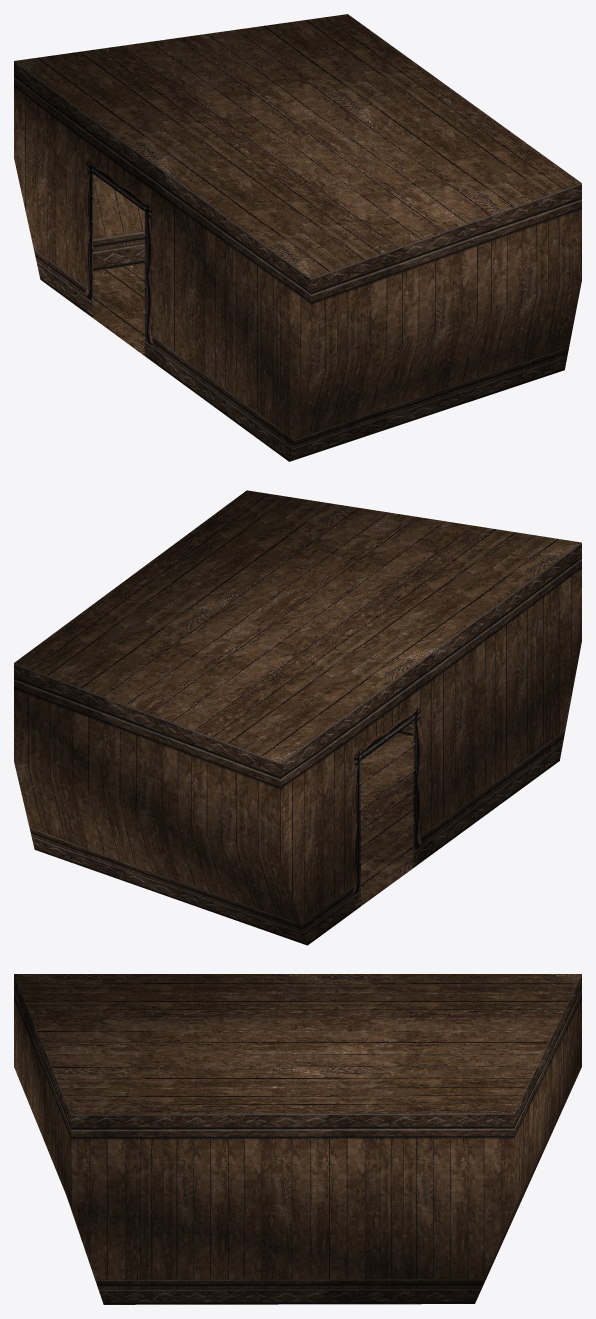
File: KM_SHIP_BEGINNING_COLLISION_07.glb
3 views of the same model, one above another, from view 1: azimuth 30°, elevation 25°; view 2: azimuth 150°, elevation 25°; view 3: azimuth 270°, elevation 25° (orthographic). The views are drawn at different scales.
Visible parts, largest first — view 1: Mesh; view 2: Mesh; view 3: Mesh.
Part boxes in pixels (<box>): Mesh: <box>14,14,581,461</box>; Mesh: <box>14,490,581,945</box>; Mesh: <box>14,974,581,1304</box>.
Bounding box in the file's own units: 5.43 × 3.44 × 9.29.
3 materials, 3 textured.
